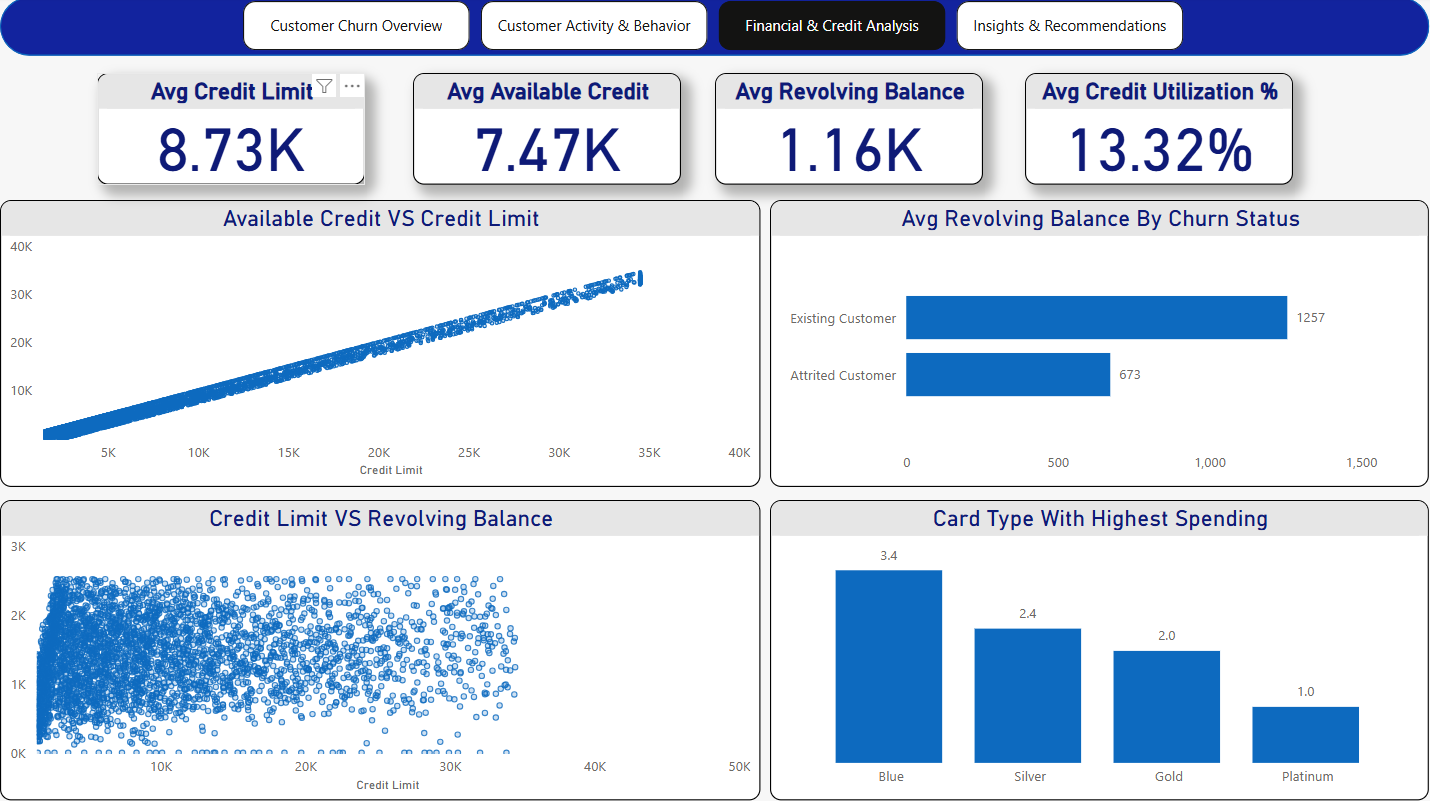

The dashboard page shown, as its layout file describes it:
{"tool":"powerbi","page":{"name":"Financial & Credit Analysis","canvas":[1280,720],"ordinal":2},"visuals":[{"type":"card","title":"Avg Credit Utilization %","fields":{"Values":["Transaction_Credit.Credit Utilization"]},"box":[918.2,68.1,240.2,100.2],"z":0},{"type":"card","title":"Avg Revolving Balance","fields":{"Values":["Avg(AVG_Revolving_Balance.AVG_Revolving_Balance)"]},"box":[640,68.1,240.2,100.2],"z":1000},{"type":"card","title":"Avg Available Credit","fields":{"Values":["Avg(Transaction_Credit.Available_Credit)"]},"box":[369.6,68.1,240.2,100.2],"z":2000},{"type":"clusteredColumnChart","title":"Card Type With Highest Spending","fields":{"Category":["Card_With_Highest_Spending_View.Card_Type"],"Y":["Sum(Card_With_Highest_Spending_View.Highest_Spending_by_Card)"]},"box":[689.6,450.3,590.4,269.4],"z":3000},{"type":"scatterChart","title":"Credit Limit VS Revolving Balance","fields":{"Y":["Avg(Credit_Balance_View.Revolving_Balance)"],"X":["Credit_Balance_View.Credit_Limit"]},"box":[0,450.3,680.9,269.4],"z":4000},{"type":"scatterChart","title":"Available Credit VS Credit Limit","fields":{"X":["Credit_Available_View.Credit_Limit"],"Y":["Credit_Available_View.Available_Credit"]},"box":[0,181.9,680.9,256.8],"z":5000},{"type":"clusteredBarChart","title":"Avg Revolving Balance By Churn Status","fields":{"Category":["Customer_Info.Churn_Status"],"Y":["Avg(Transaction_Credit.Revolving_Balance)"]},"box":[689.6,181.9,590.4,256.8],"z":6000},{"type":"card","title":"Avg Credit Limit","fields":{"Values":["Avg(Transaction_Credit.Credit_Limit)"]},"box":[86.6,68.1,240.2,100.2],"z":7000},{"type":"shape","box":[0,0,1280,52.5],"z":8000},{"type":"pageNavigator","box":[217.9,3.9,843.3,44.7],"z":9000}]}

Visuals, with their boxes in screenshot pixels (x1, y1, x2, y2), scaled from the page's 1280x720 canvas onto the 1430x801 screenshot:
"Avg Credit Utilization %" card: locate(1026, 76, 1294, 187)
"Avg Revolving Balance" card: locate(715, 76, 983, 187)
"Avg Available Credit" card: locate(413, 76, 681, 187)
"Card Type With Highest Spending" clusteredColumnChart: locate(770, 501, 1429, 800)
"Credit Limit VS Revolving Balance" scatterChart: locate(0, 501, 761, 800)
"Available Credit VS Credit Limit" scatterChart: locate(0, 202, 761, 488)
"Avg Revolving Balance By Churn Status" clusteredBarChart: locate(770, 202, 1429, 488)
"Avg Credit Limit" card: locate(97, 76, 365, 187)
shape: locate(0, 0, 1429, 58)
pageNavigator: locate(243, 4, 1186, 54)
